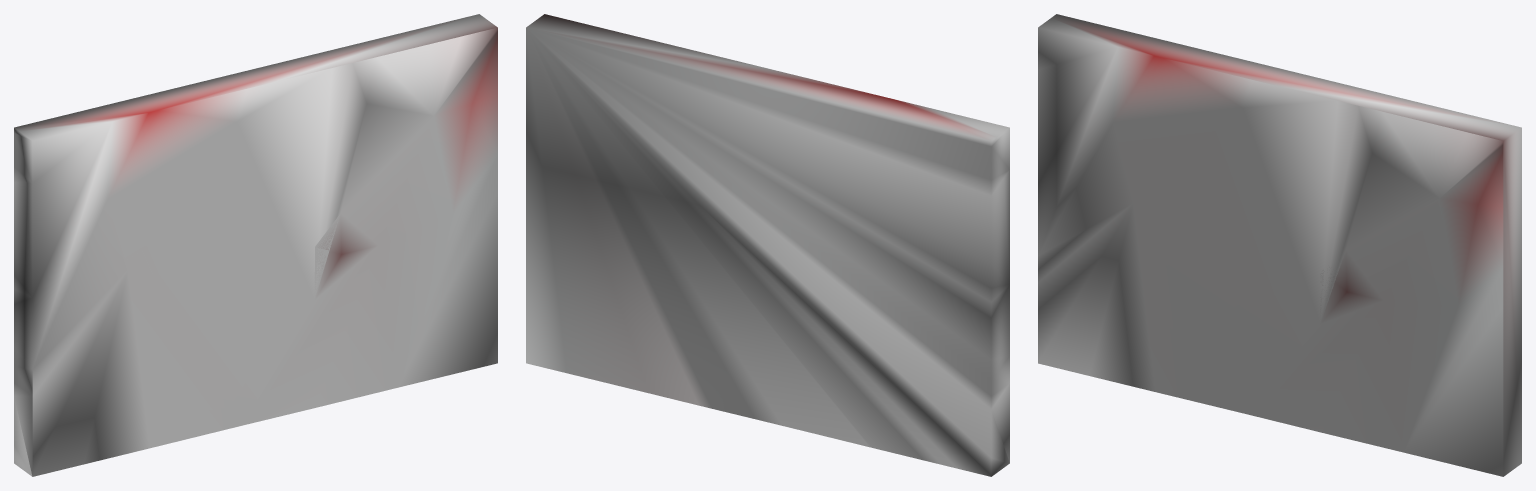
Rendered from SM_FA_Factory_W290_H200.fbx.
The picture shows the model from 3 angles, left to right: view 1: azimuth 30°, elevation 25°; view 2: azimuth 150°, elevation 25°; view 3: azimuth 330°, elevation 25°; orthographic projection.
Visible parts, largest first — view 1: SM_FA_Factory_W290_H200; view 2: SM_FA_Factory_W290_H200; view 3: SM_FA_Factory_W290_H200.
Boxes of the visible parts, x1,y1,x2,y2 form: SM_FA_Factory_W290_H200: [14, 14, 497, 476]; SM_FA_Factory_W290_H200: [526, 14, 1009, 476]; SM_FA_Factory_W290_H200: [1038, 14, 1521, 476].
Bounding box in the file's own units: 290 × 20 × 200.
